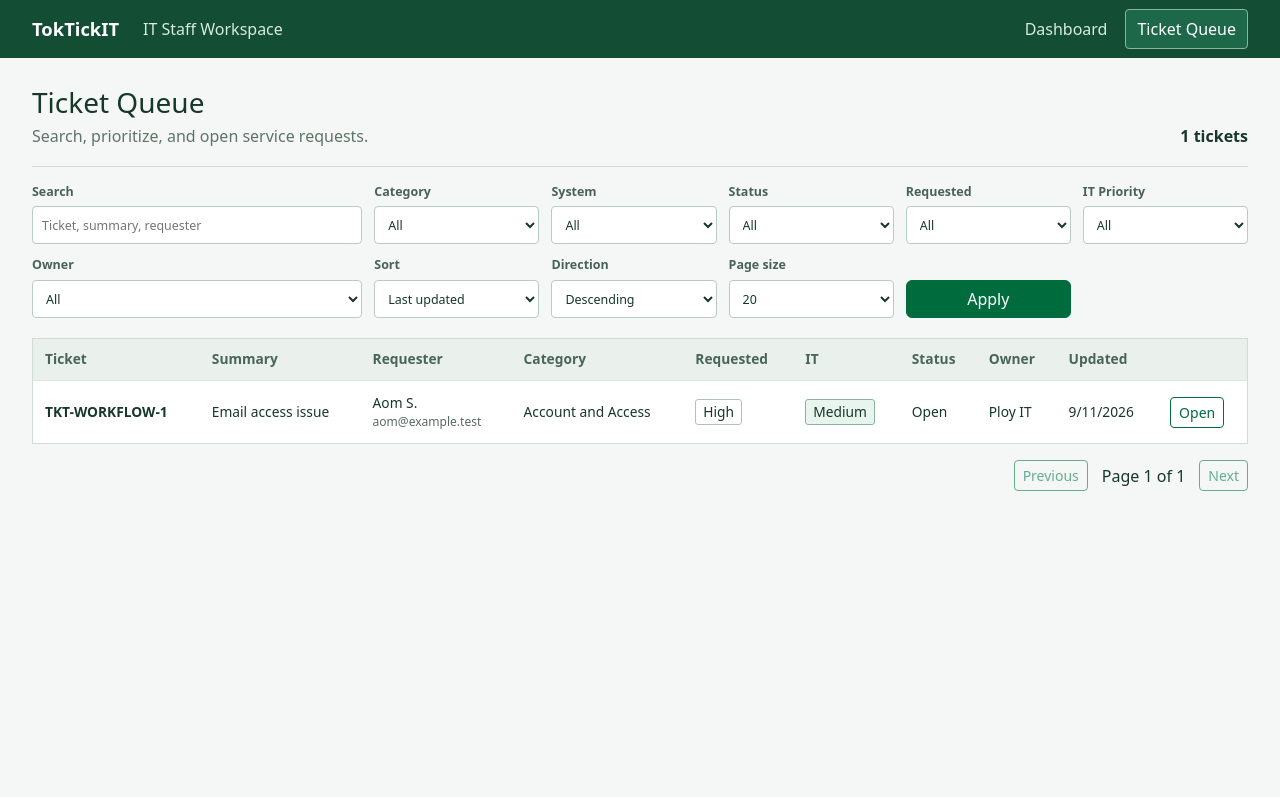
Lab 4 Ticket workflow UI › refreshes the Ticket summary after a successful permitted transition
The width and height of the screenshot is (1280, 797).
Click the button with aria-label "Open TKT-WORKFLOW-1" at (1197, 412), box [1170,396,1224,428]
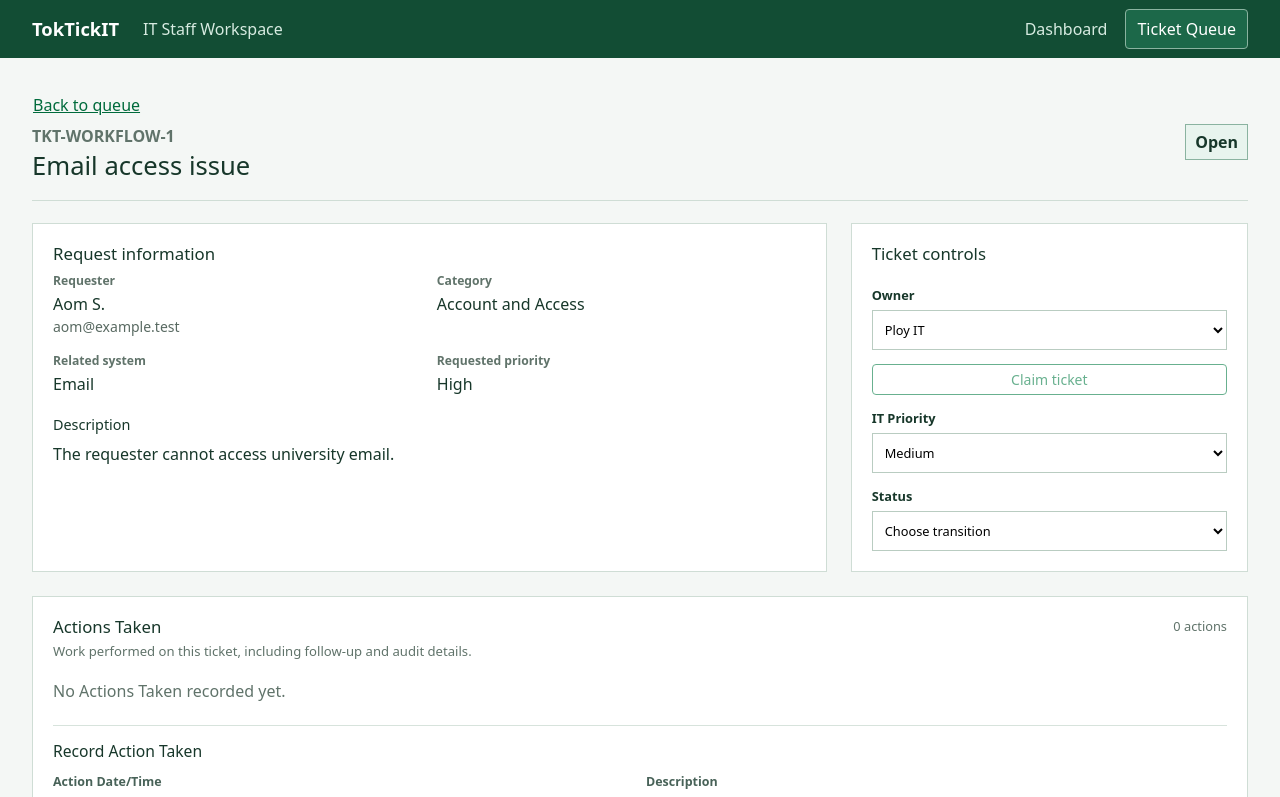
Now the heading "Email access issue" is shown, box [32,151,250,182]
Select "In Progress" in the dropdown named "Set ticket status" at (1049, 531), box [872,511,1227,551]
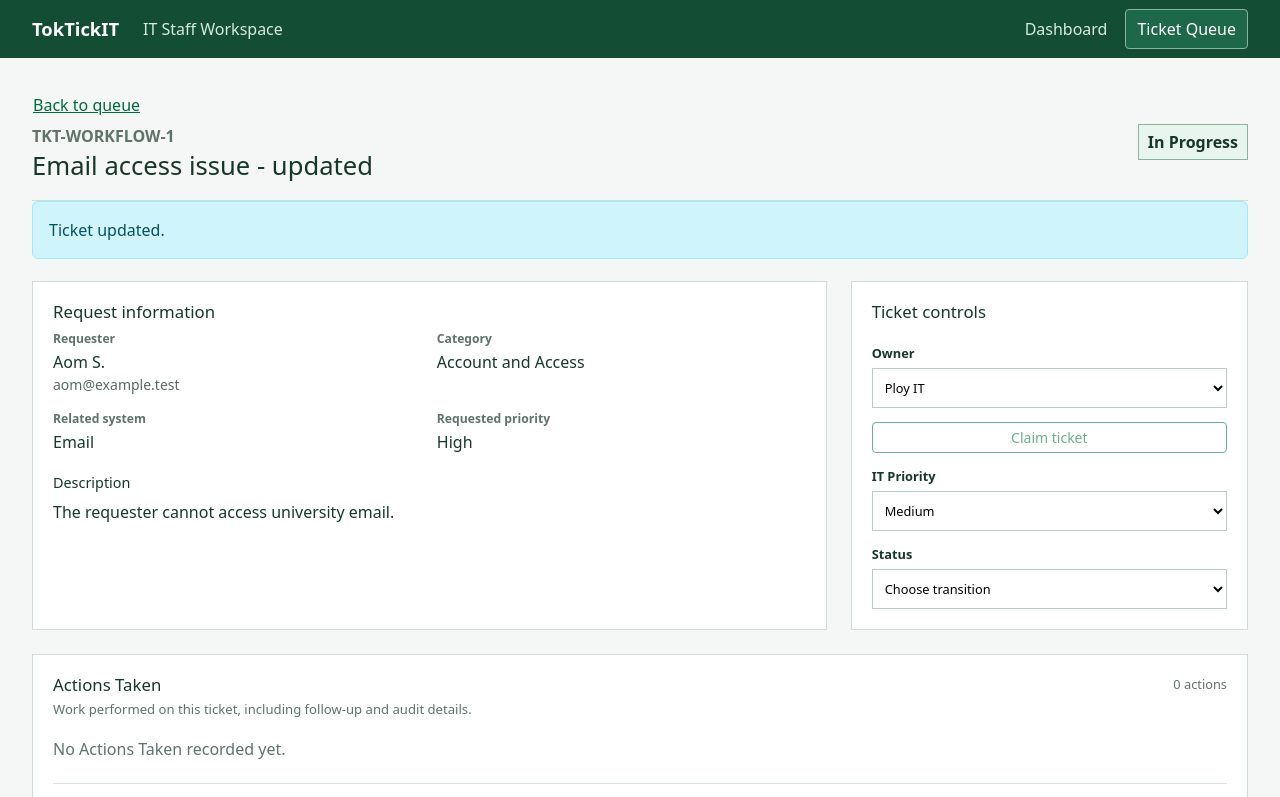
Now the heading "Email access issue - updated" is shown, box [32,151,373,182]
Now the text "In Progress" is shown, box [1138,124,1248,160]
Now the message reads "Ticket updated.", box [49,219,165,241]
